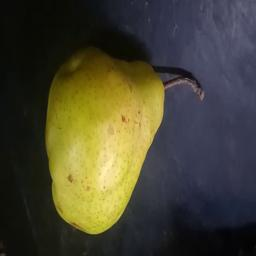Pear Semifresh: (38, 41, 204, 234)
